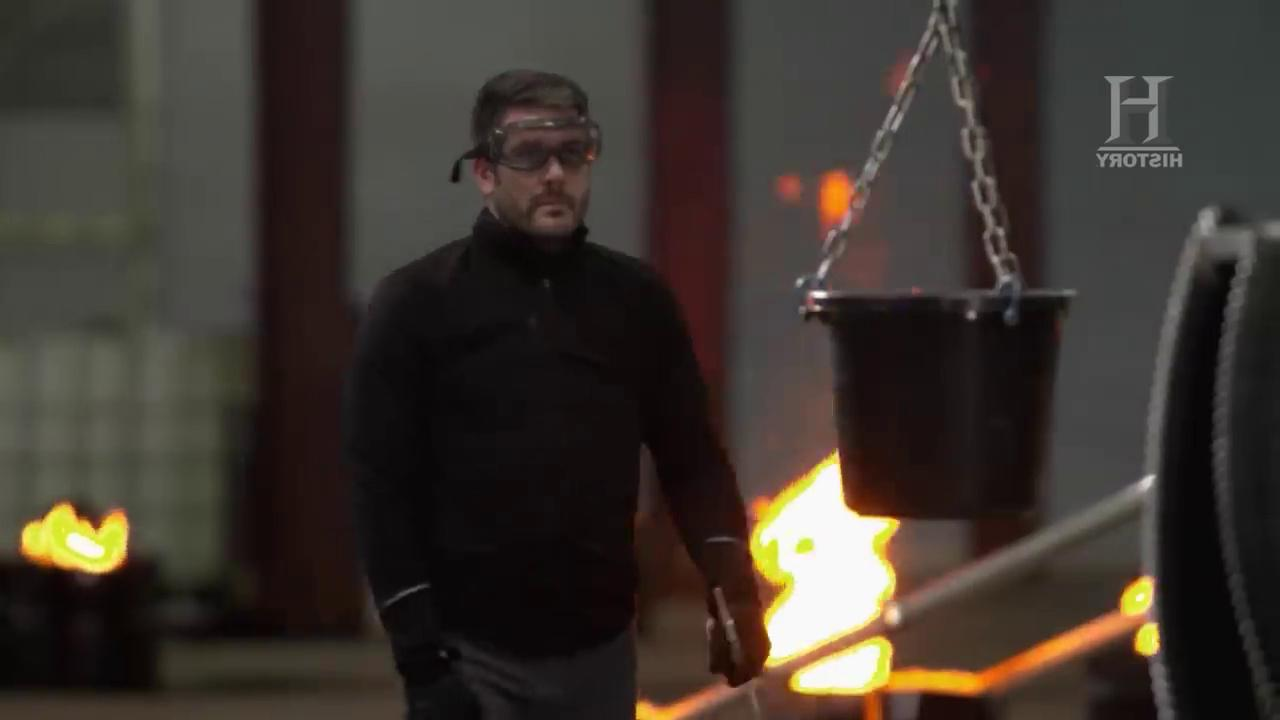Fire: (744, 438, 909, 693), (20, 493, 137, 576)
